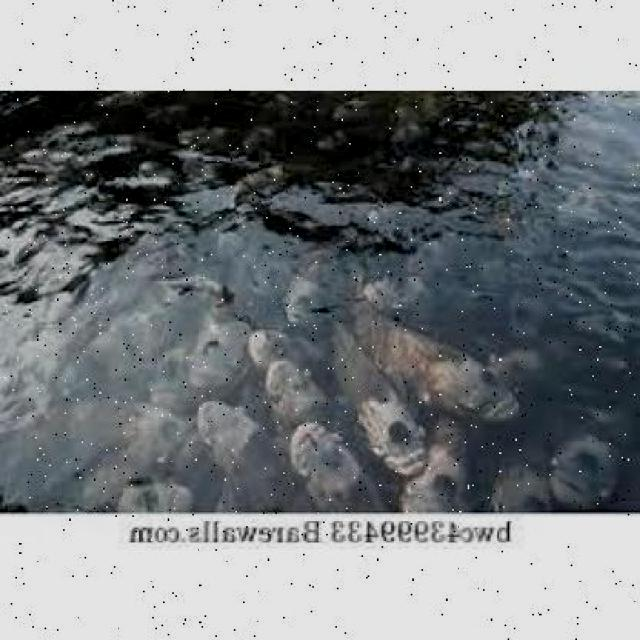gurame: (383, 324, 512, 412), (338, 340, 426, 463), (192, 396, 272, 510), (283, 422, 382, 507), (549, 419, 626, 504), (402, 427, 472, 515), (260, 352, 331, 418)
